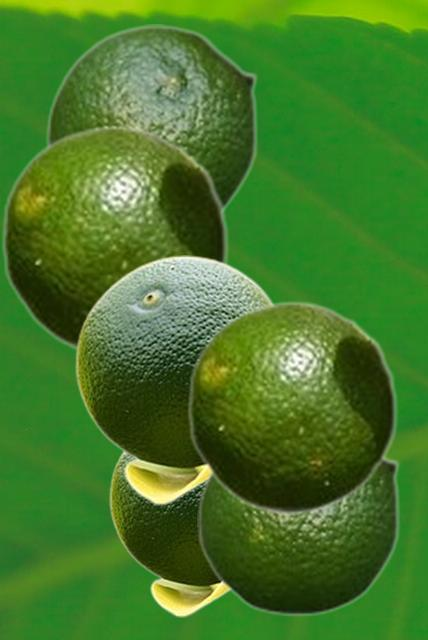calamansi: (0, 124, 229, 354), (75, 255, 273, 504), (186, 300, 398, 514), (46, 24, 258, 213), (197, 454, 400, 616), (109, 451, 229, 616)
